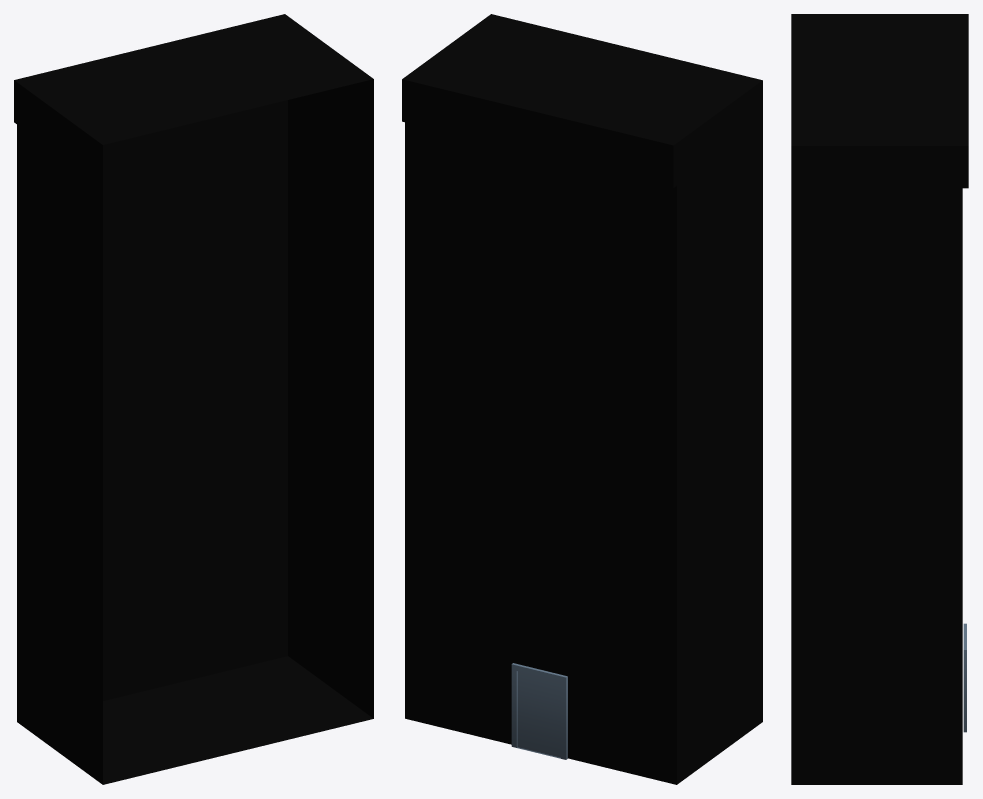
The model's file is Ciudad_Edificio_07.FBX.
The picture shows the model from 3 angles, left to right: view 1: azimuth 30°, elevation 25°; view 2: azimuth 150°, elevation 25°; view 3: azimuth 270°, elevation 25°; orthographic projection.
Parts seen in each view (by area): view 1: Ciudad_Edificio_07; view 2: Ciudad_Edificio_07; view 3: Ciudad_Edificio_07.
Boxes of the visible parts, x1,y1,x2,y2 form: Ciudad_Edificio_07: [14, 14, 373, 784]; Ciudad_Edificio_07: [402, 14, 762, 784]; Ciudad_Edificio_07: [791, 14, 968, 784].
Size of the model in its own units: 923 by 524 by 2082.
